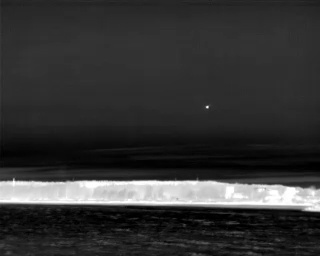HELICOPTER: (203, 102, 212, 114)
